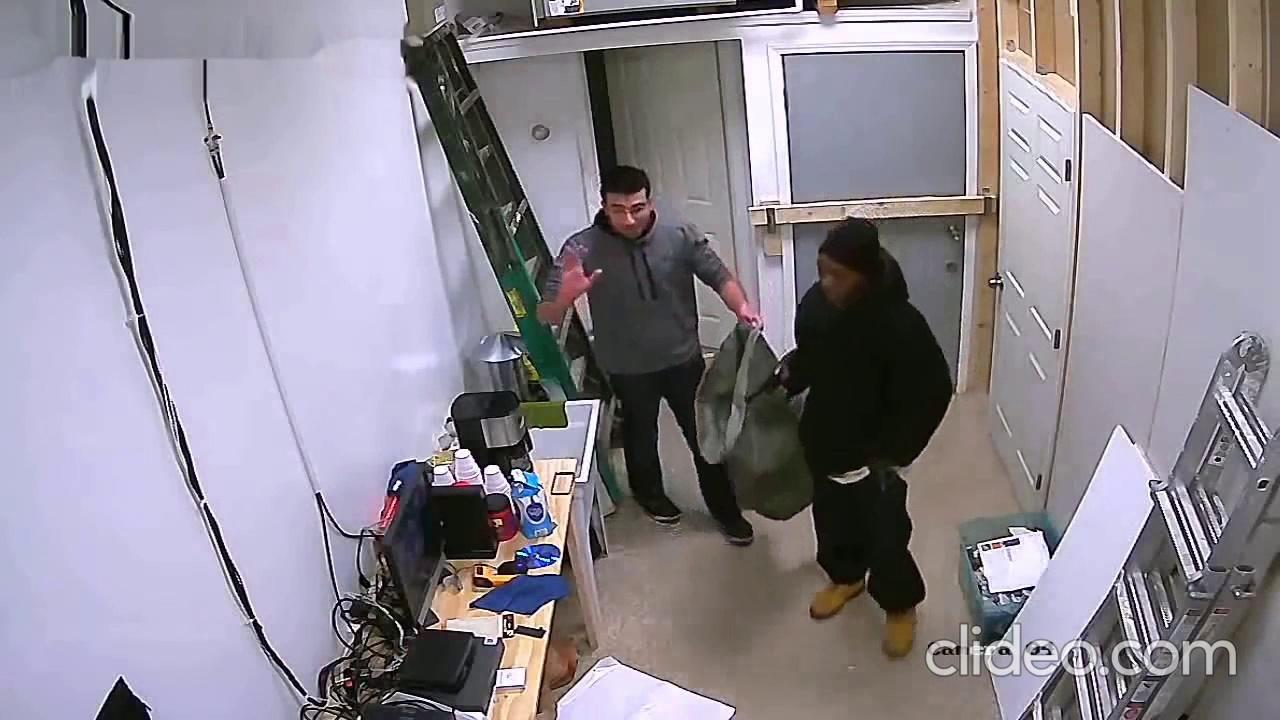person: (534, 163, 766, 548), (771, 216, 954, 659)
pistol: (746, 367, 798, 406)
